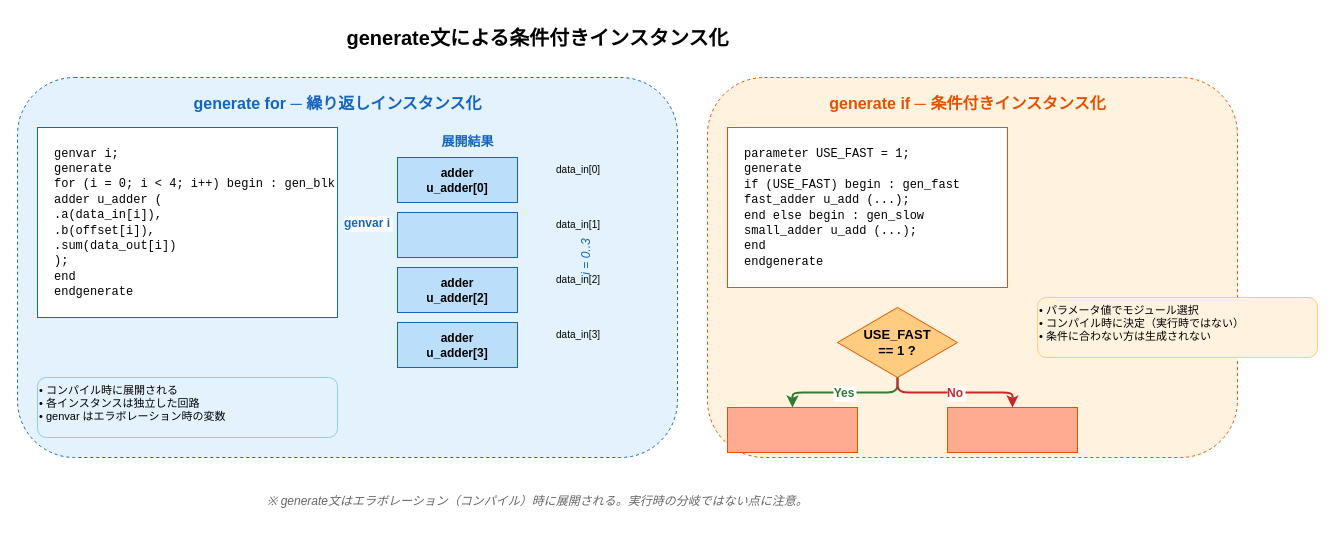
The diagram is 1335 pixels wide and 534 high, and some of its shapes have lost their labels. Here are the shapes that lost their labels. From the top down, the centre of each, then its label:
pixel 457 235: adder u_adder[1]
pixel 792 429: fast_adder (高速・大面積)
pixel 1012 429: small_adder (低速・小面積)
